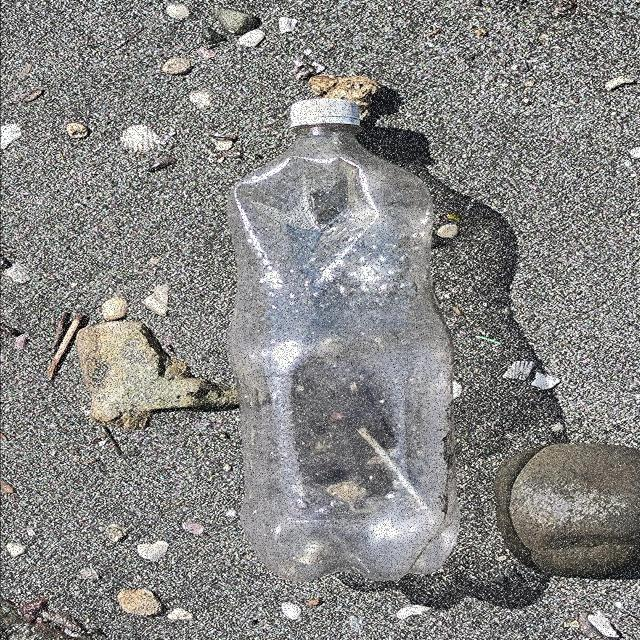plastic_waste: (225, 98, 463, 585)
